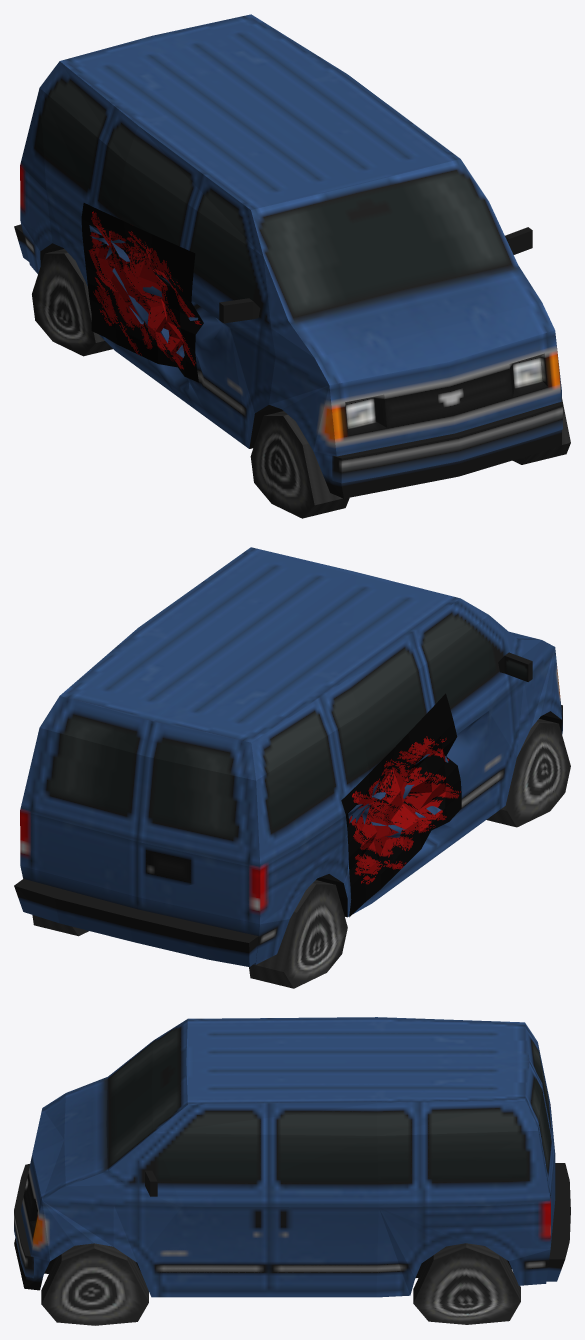
The model's file is Car4_scratched.obj.
The picture shows the model from 3 angles, top to bottom: view 1: azimuth 30°, elevation 25°; view 2: azimuth 150°, elevation 25°; view 3: azimuth 270°, elevation 25°; orthographic projection. The views are drawn at different scales.
Parts seen in each view (by area): view 1: Car4, CC_drag_&_smear; view 2: Car4, CC_drag_&_smear; view 3: Car4.
Part boxes in pixels (x1=…): Car4: x1=14, y1=14, x2=570, y2=518; CC_drag_&_smear: x1=81, y1=203, x2=203, y2=382; Car4: x1=14, y1=547, x2=570, y2=988; CC_drag_&_smear: x1=341, y1=693, x2=461, y2=917; Car4: x1=14, y1=1017, x2=570, y2=1325.
Bounding box in the file's own units: 3.4 × 2.59 × 6.3.
2 materials, 2 textured.
